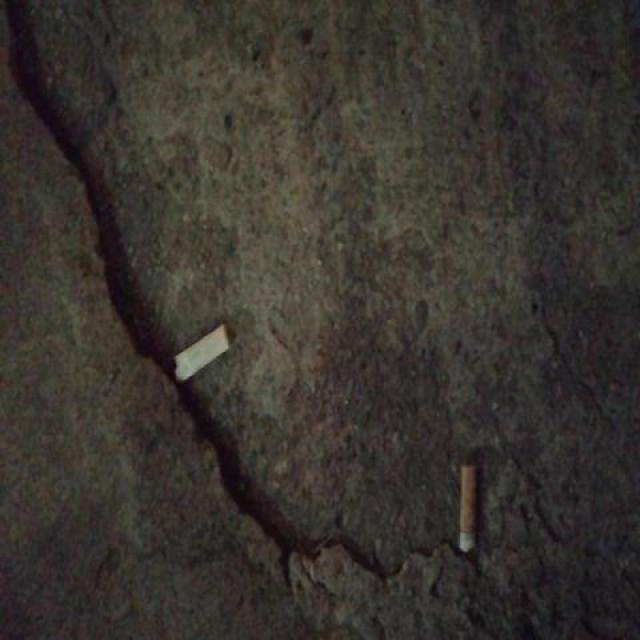non-organic waste: (172, 318, 236, 386), (455, 460, 481, 559)
